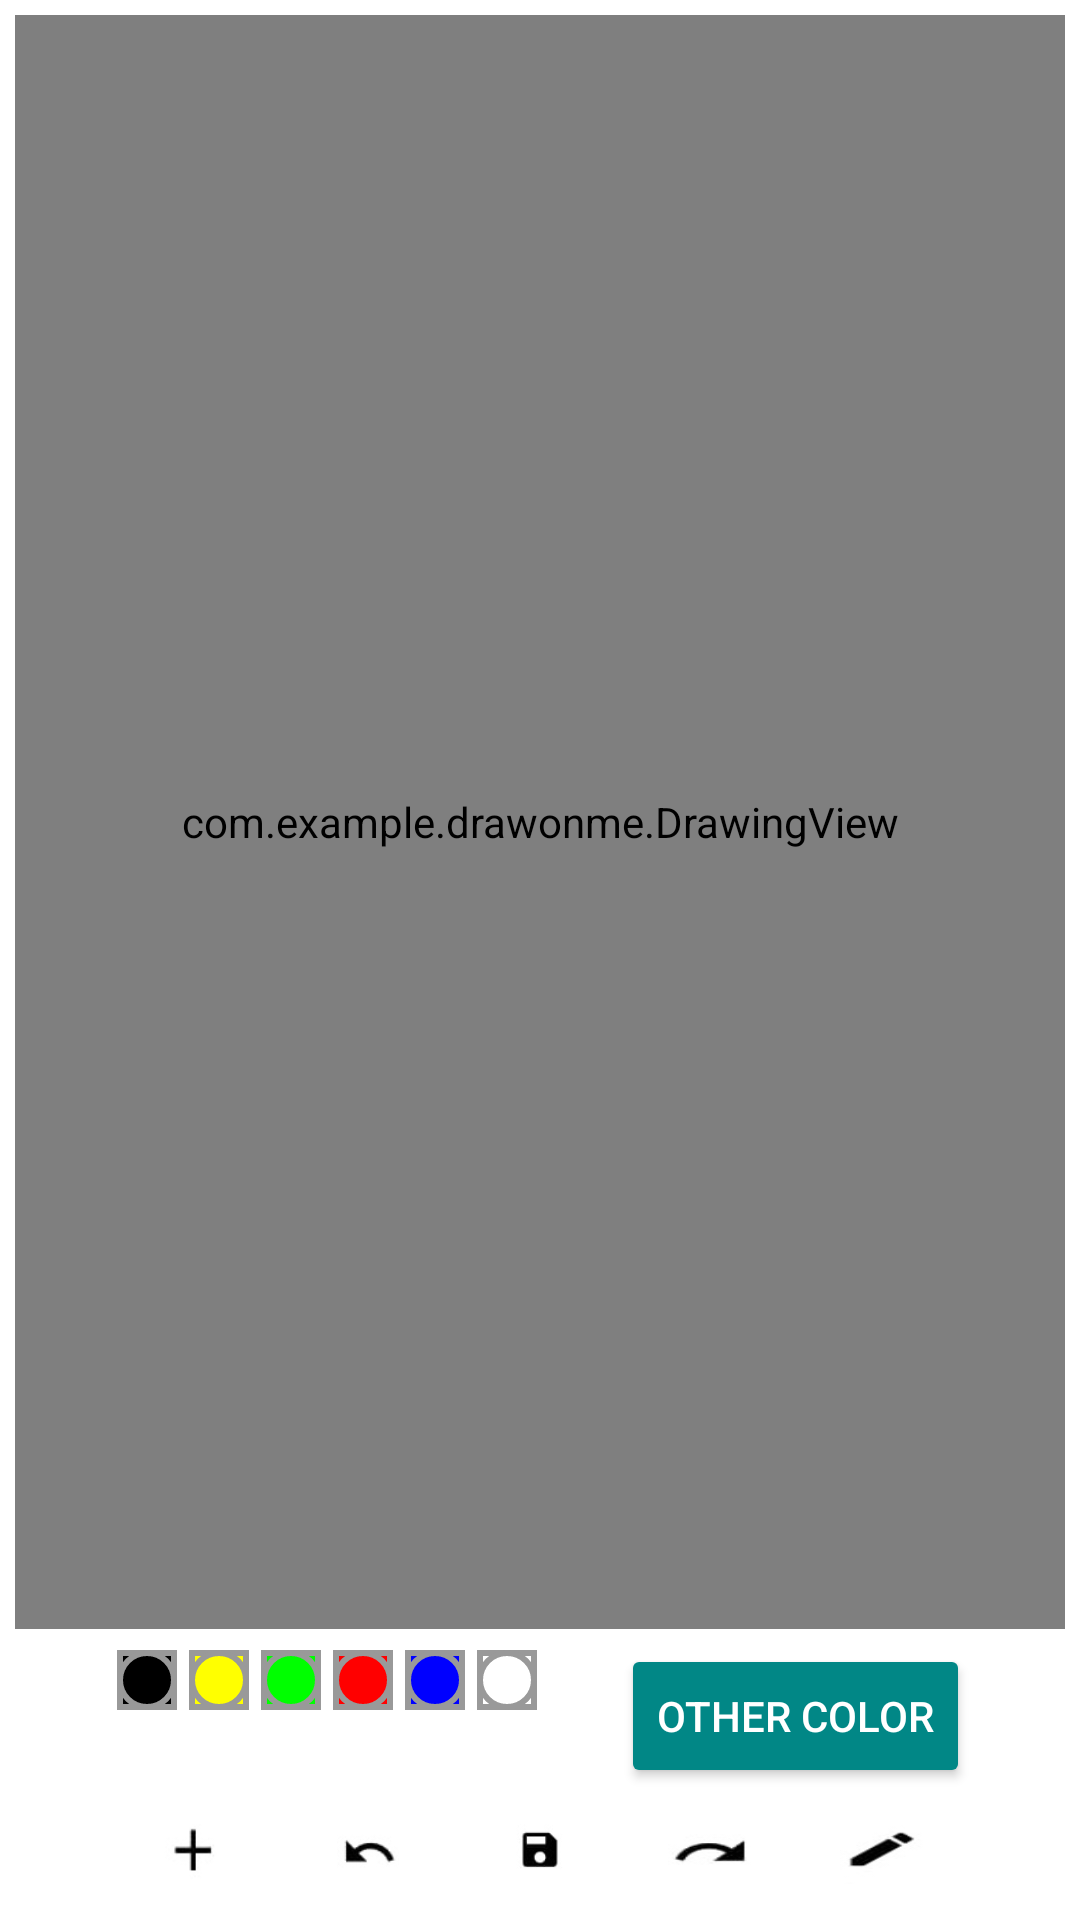

Where icons sit on this 1080x1920 app screen, as (x1, y1, x2, y2):
brush size: (849, 1832, 914, 1867)
redo: (675, 1840, 745, 1862)
save: (522, 1832, 558, 1867)
undo: (345, 1840, 395, 1863)
